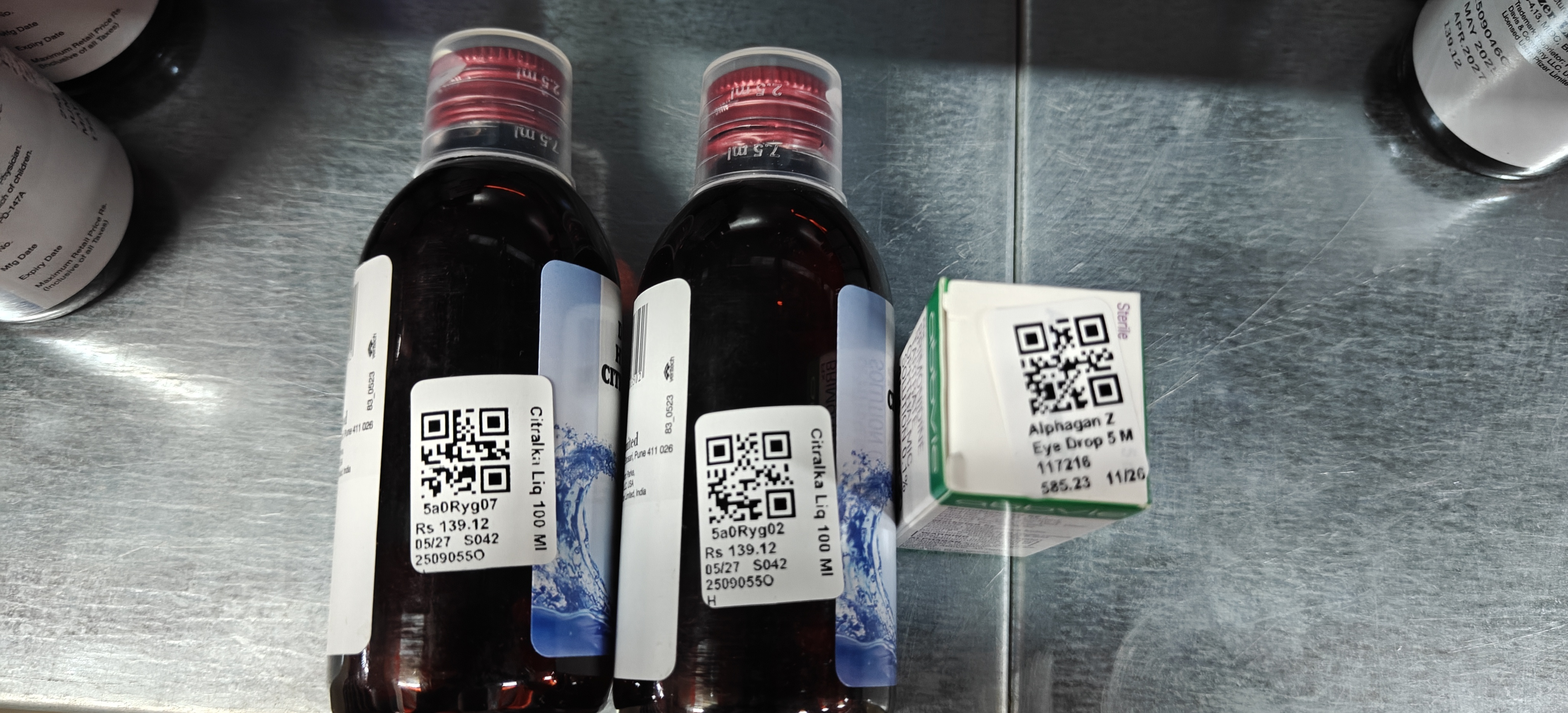qr_code: (1013, 313, 1123, 416), (706, 430, 795, 524), (421, 407, 510, 499)
